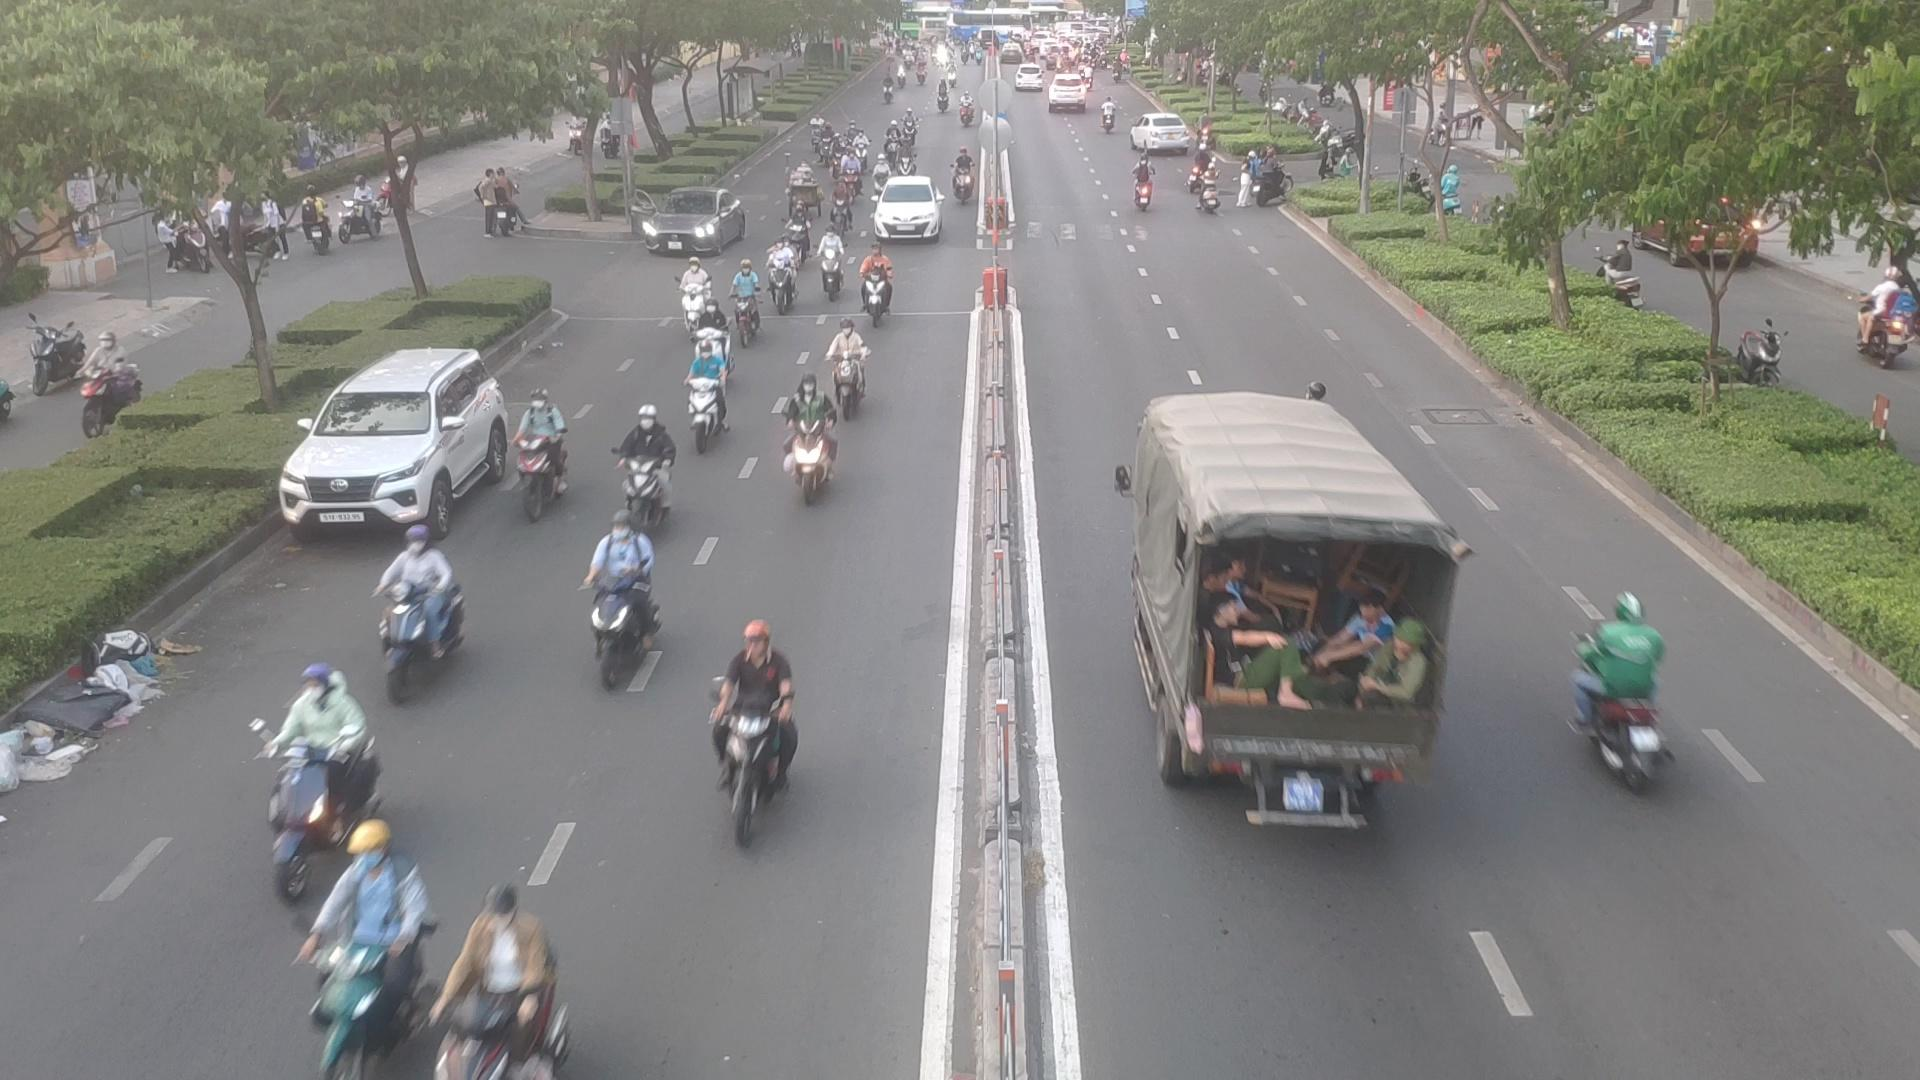car: (1137, 389, 1468, 866), (289, 326, 501, 531), (633, 189, 750, 260), (868, 179, 942, 245), (1135, 115, 1197, 156)
motorbike: (439, 873, 601, 1080), (290, 823, 405, 1065), (1553, 580, 1671, 812), (363, 520, 481, 712), (253, 658, 371, 848), (716, 605, 787, 876), (506, 400, 572, 524), (767, 382, 833, 502), (611, 404, 669, 527), (605, 512, 636, 688), (829, 326, 876, 423), (680, 347, 724, 444), (858, 244, 901, 322), (688, 305, 732, 364), (814, 228, 847, 305), (733, 258, 760, 342), (770, 243, 793, 313), (1127, 157, 1154, 216), (676, 266, 703, 320), (825, 175, 849, 233), (789, 203, 810, 262), (949, 146, 971, 200), (1203, 167, 1222, 220), (843, 149, 864, 195), (894, 140, 914, 185), (855, 131, 872, 171), (872, 152, 887, 195), (829, 133, 844, 177), (815, 125, 831, 165), (884, 121, 897, 162)
